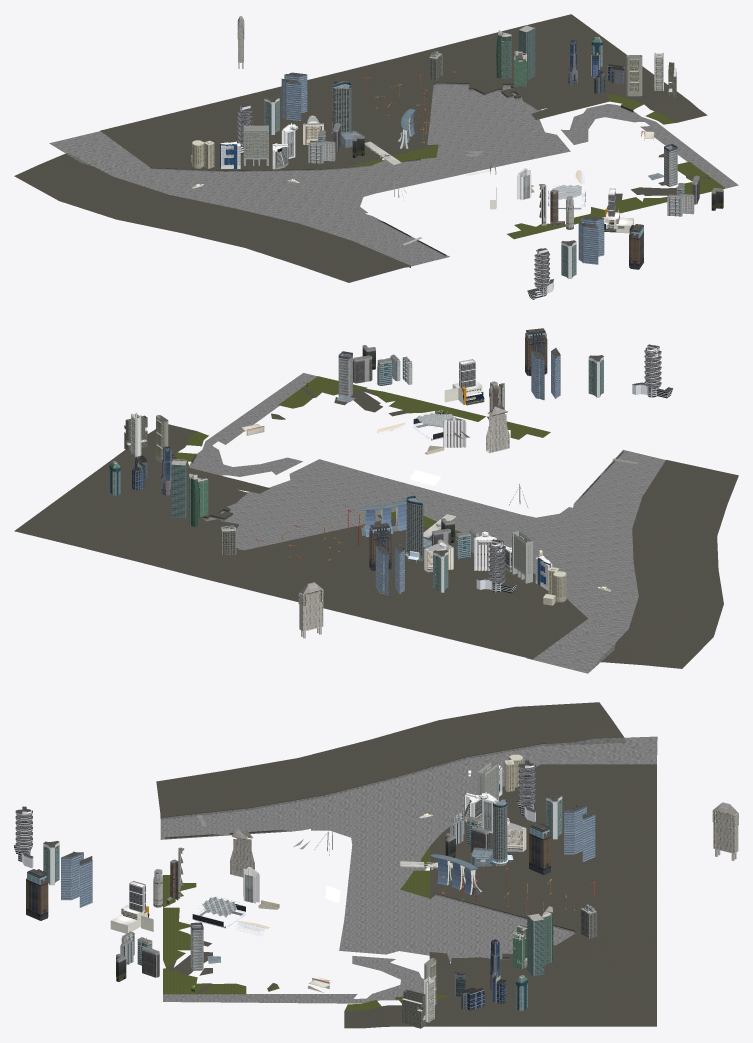
3 views of the same model, one above another, from view 1: azimuth 30°, elevation 25°; view 2: azimuth 150°, elevation 25°; view 3: azimuth 270°, elevation 25° (orthographic). The views are drawn at different scales.
Parts seen in each view (by area): view 1: m96_base, m92_base, m60_base, m97_base, m28_base, m59_base, m55_base, m71_base, m58_base, m42_base, m56_base, m39_base (+5 smaller); view 2: m96_base, m92_base, m60_base, m97_base, m28_base, m59_base, m38_base, m55_base, m71_base, m39_base, m43_base, m42_base (+5 smaller); view 3: m96_base, m92_base, m60_base, m97_base, m59_base, m28_base, m38_base, m55_base, m71_base, m58_base, m43_base, m35_base (+7 smaller).
Boxes of the visible parts, x1,y1,x2,y2 form: m96_base: (14,14,710,282); m92_base: (49,83,738,267); m60_base: (237,72,643,299); m97_base: (346,93,725,239); m28_base: (308,123,723,216); m59_base: (429,25,535,86); m55_base: (626,52,676,97); m71_base: (332,81,663,180); m58_base: (568,40,624,93); m42_base: (243,125,483,165); m56_base: (539,184,573,229); m39_base: (281,123,531,200); m96_base: (14,388,738,668); m92_base: (189,373,665,673); m60_base: (369,328,672,595); m97_base: (175,376,550,534); m28_base: (353,345,490,559); m59_base: (171,459,236,554); m38_base: (298,404,509,638); m55_base: (124,412,168,463); m71_base: (337,395,431,562); m39_base: (443,417,496,570); m43_base: (444,359,484,405); m42_base: (453,430,532,583); m96_base: (156,702,656,1028); m92_base: (160,736,657,1003); m60_base: (14,760,595,920); m97_base: (163,847,449,1010); m59_base: (513,904,596,975); m28_base: (116,811,489,981); m38_base: (230,802,738,877); m55_base: (402,958,436,1028); m71_base: (207,796,513,963); m58_base: (455,939,506,1010); m43_base: (110,880,153,933); m35_base: (430,854,481,895).
Bounding box in the file's own units: 3178 × 295 × 2975.
37 materials, 36 textured.
